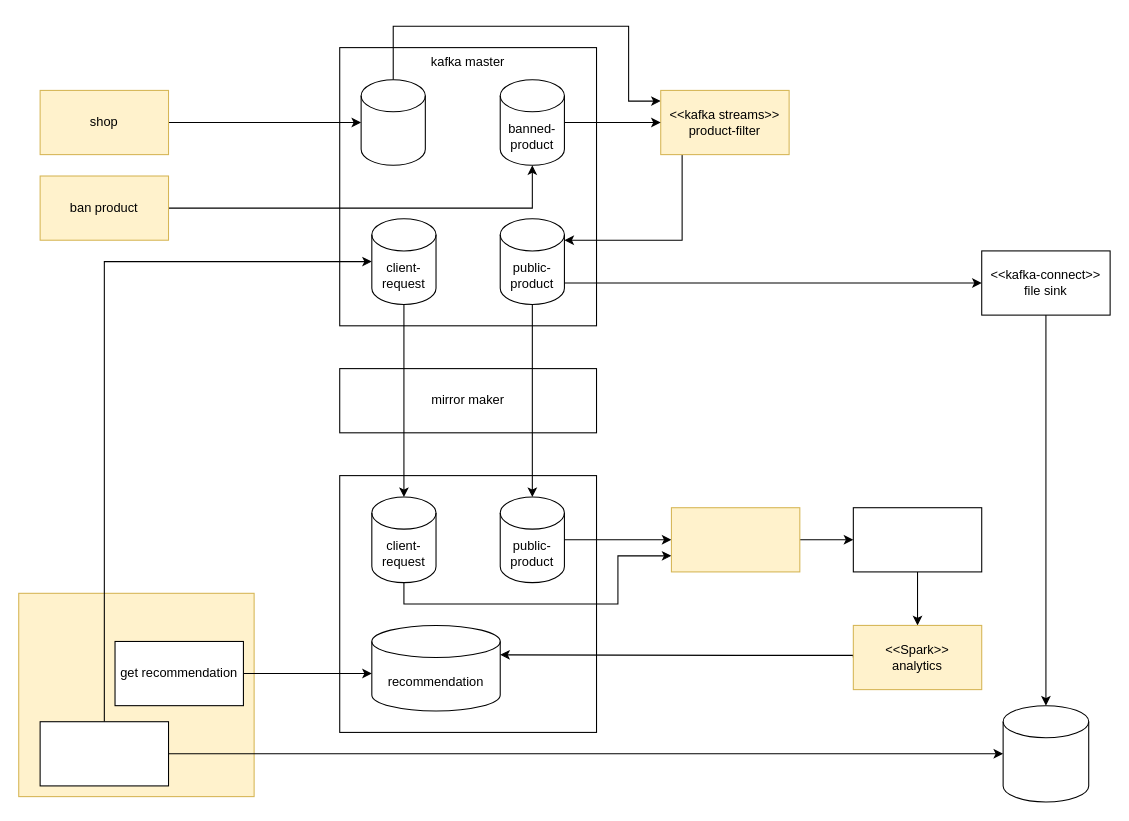
The diagram is 1129 pixels wide and 821 high, and some of its shapes have lost their labels. The box of each missing label's shape, as (x1, y1, x2, y2) in pixels:
<<hadoop>> import-to-hadoop: (670, 507, 800, 572)
client: (18, 592, 254, 797)
find product: (39, 721, 169, 786)
hdfs: (852, 507, 982, 572)
kafka slave: (339, 475, 597, 732)
product: (360, 79, 425, 165)
product.txt: (1002, 705, 1089, 802)
